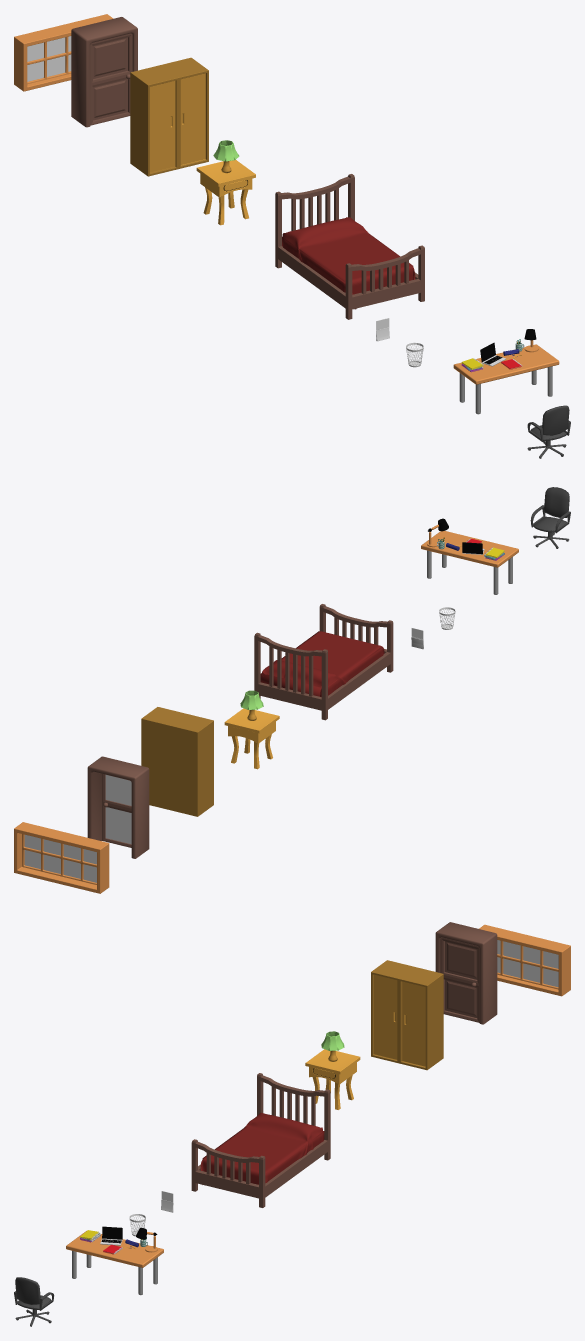
The model's file is CosasEstudio.fbx.
3 renders of one model, top to bottom at view 1: azimuth 30°, elevation 25°; view 2: azimuth 150°, elevation 25°; view 3: azimuth 330°, elevation 25°, orthographic. The views are drawn at different scales.
Parts seen in each view (by area): view 1: CamaSimple, ArmarioSimple, VentanaSimple_4x2, PuertaEstudio.002, PuertaSimple, MesaSimple, MesillaSimple, SillaSimple; view 2: CamaSimple, ArmarioSimple, VentanaSimple_4x2, PuertaSimple, MesaSimple, MesillaSimple, PlanoLuz, SillaSimple, PuertaEstudio.002; view 3: CamaSimple, ArmarioSimple, VentanaSimple_4x2, PuertaEstudio.002, PuertaSimple, MesaSimple, MesillaSimple, SillaSimple.
Boxes of the visible parts, x1,y1,x2,y2 form: CamaSimple: (275,174,424,319); ArmarioSimple: (130,57,208,176); VentanaSimple_4x2: (14,14,113,91); PuertaEstudio.002: (90,33,132,125); PuertaSimple: (71,17,137,127); MesaSimple: (453,344,559,414); MesillaSimple: (196,160,255,225); SillaSimple: (527,405,570,458); CamaSimple: (254,604,393,720); ArmarioSimple: (141,707,213,816); VentanaSimple_4x2: (14,822,109,893); PuertaSimple: (87,756,149,858); MesaSimple: (421,531,518,594); MesillaSimple: (224,708,279,769); PlanoLuz: (105,775,131,844); SillaSimple: (530,487,570,548); PuertaEstudio.002: (102,774,131,847); CamaSimple: (191,1073,330,1207); ArmarioSimple: (371,960,443,1070); VentanaSimple_4x2: (479,924,570,996); PuertaEstudio.002: (440,937,479,1022); PuertaSimple: (435,922,497,1024); MesaSimple: (66,1231,163,1295); MesillaSimple: (305,1049,360,1109); SillaSimple: (14,1277,54,1326).
Bounding box in the file's own units: 419 × 394 × 4041.
